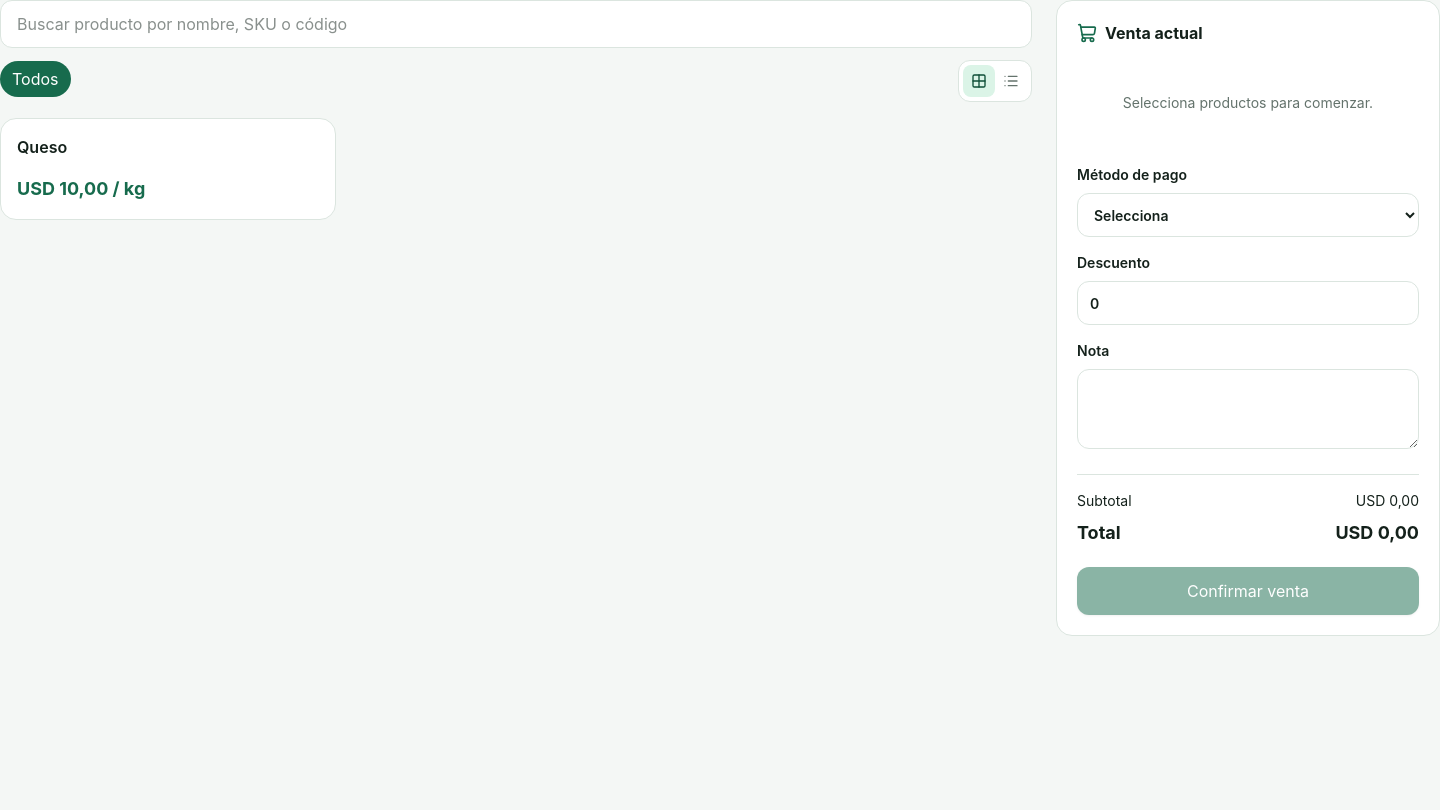
it: weighted cart › allows weighed sales without stock enabled
Click the button "Queso USD 10,00 / kg": (42, 147) [0,118,336,220]
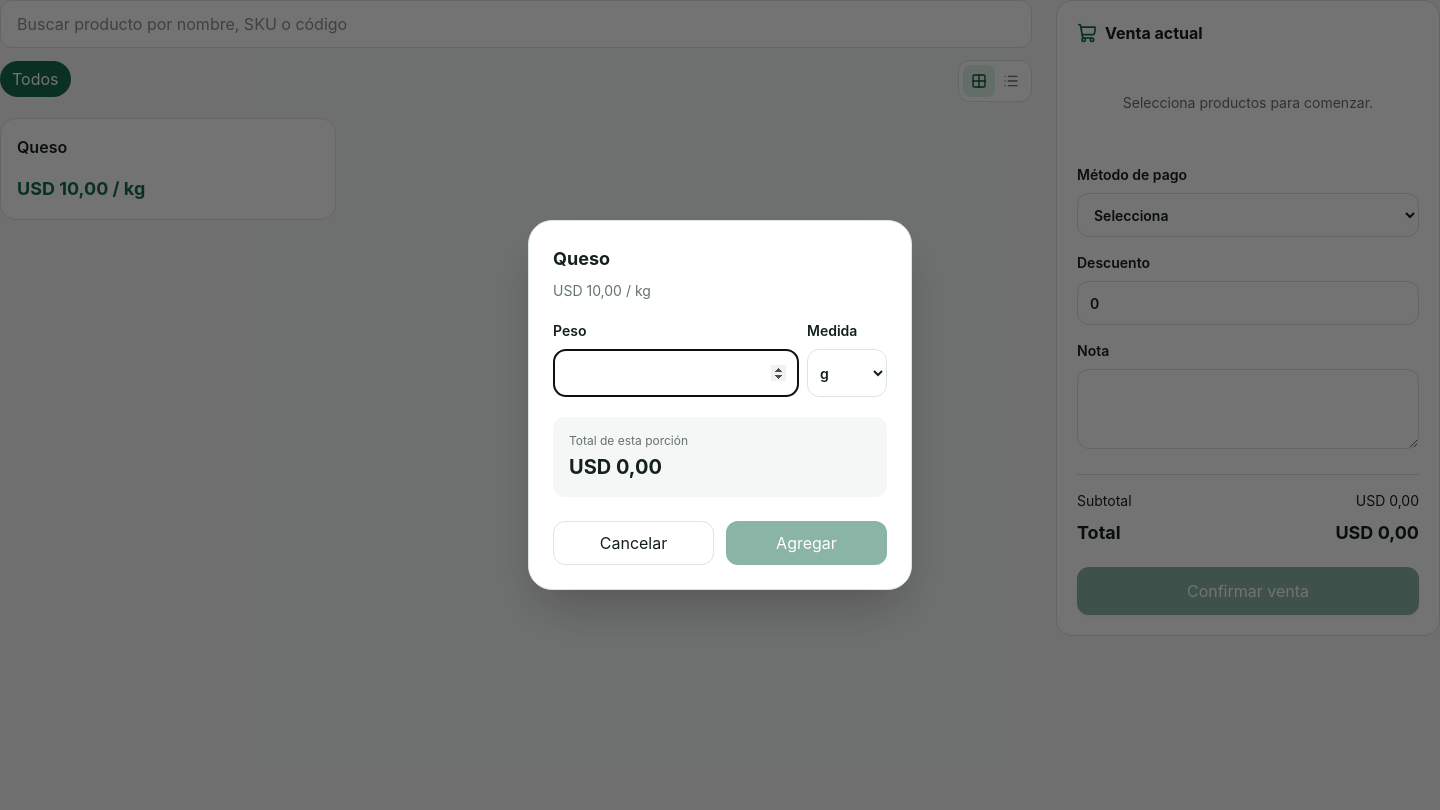
In the number field labelled "Peso": (676, 373) [553,349,799,397], type "3000"
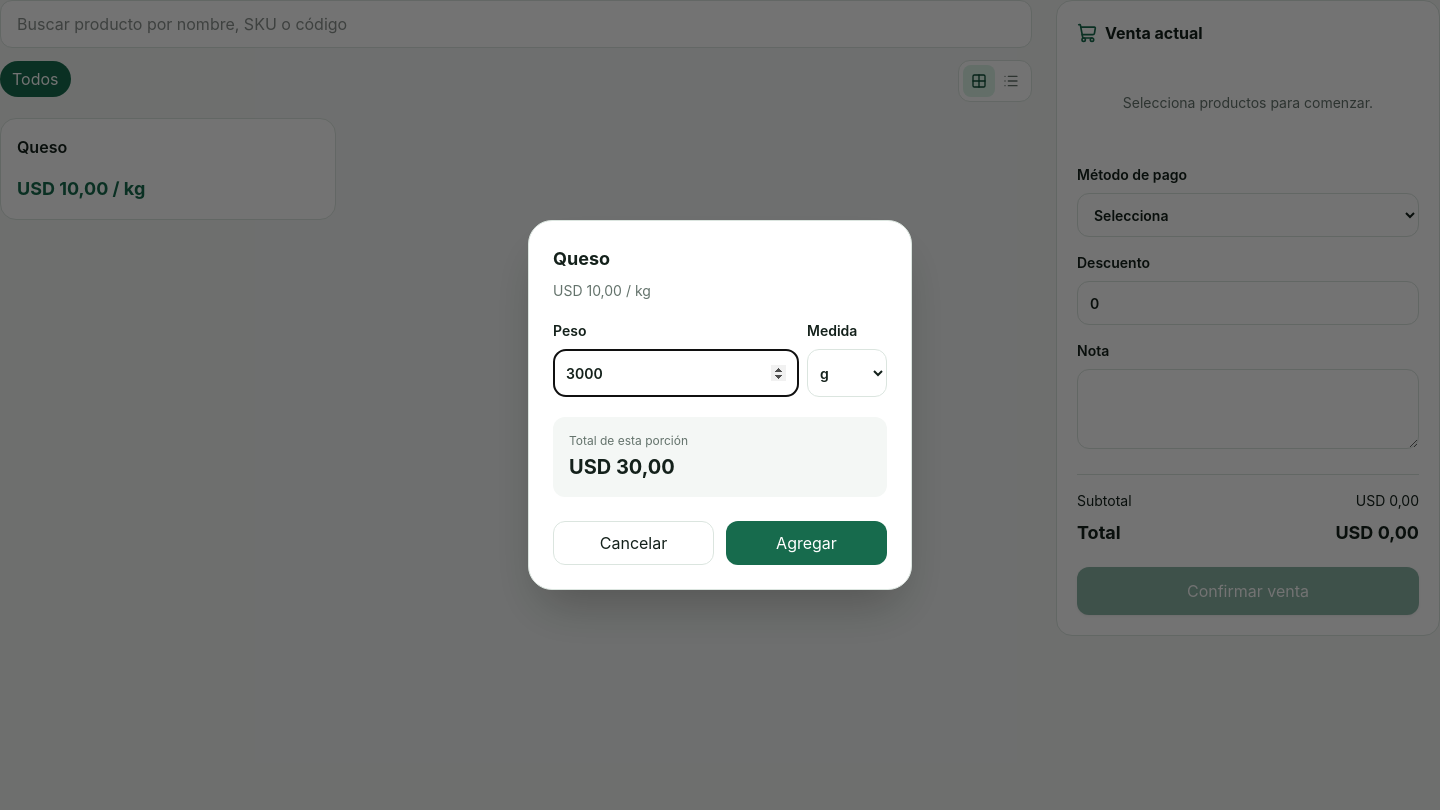
Expected: the button "Agregar" is enabled, [726,521,887,565]
